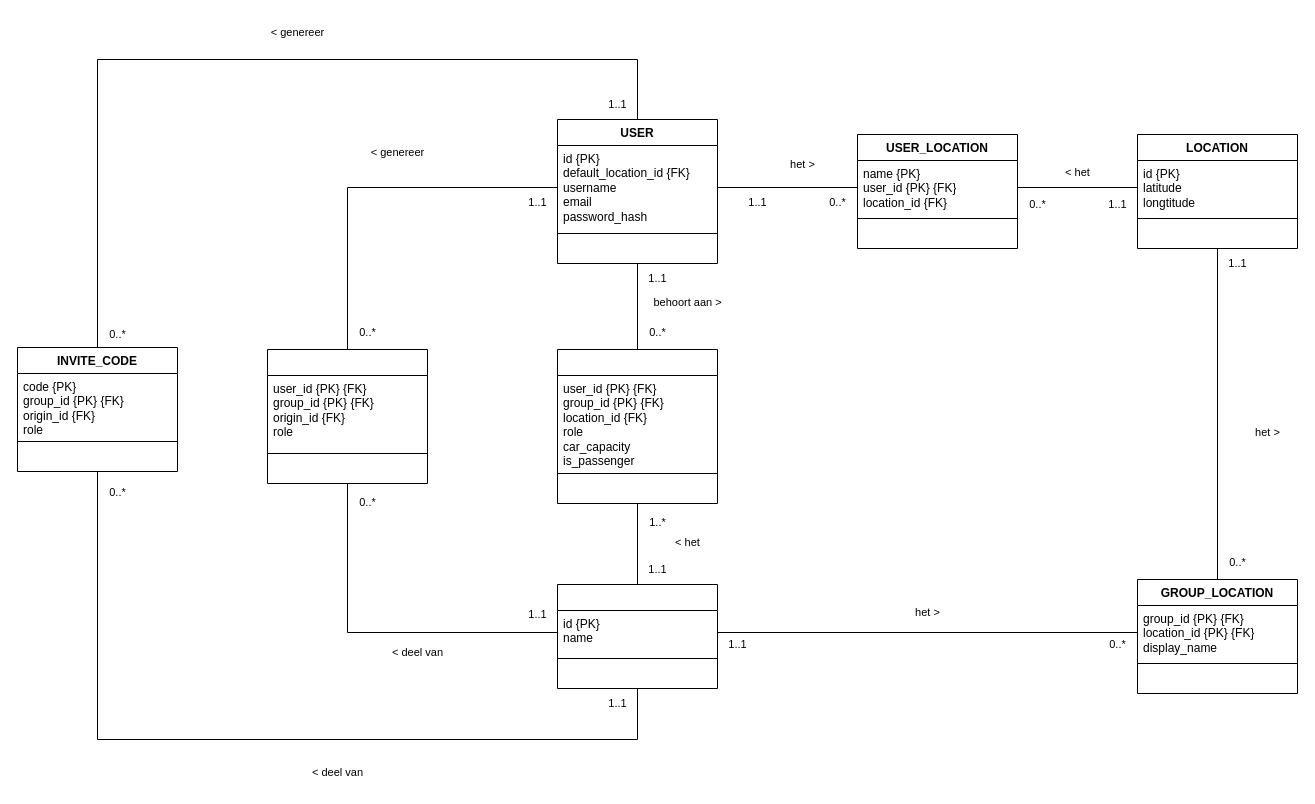
Image size: 1315x804. Some labels were removed from this diagram. The box of each missing label's shape, as (x1, y1, x2, y2) in pixels:
GROUP: (556, 584, 718, 688)
INVITE: (266, 348, 428, 484)
USER_GROUP: (556, 348, 718, 504)
